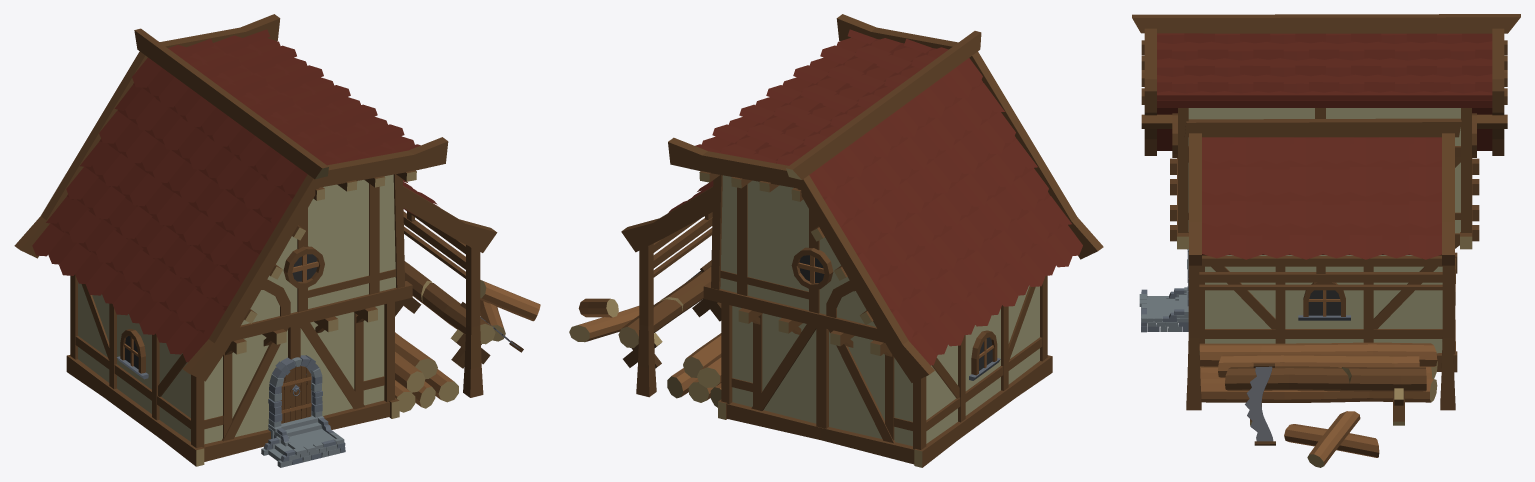
File: Sawmill.gltf
The picture shows the model from 3 angles, left to right: view 1: azimuth 30°, elevation 25°; view 2: azimuth 150°, elevation 25°; view 3: azimuth 270°, elevation 25°; orthographic projection. The views are drawn at different scales.
Visible parts, largest first — view 1: Sawmill_Cube.047; view 2: Sawmill_Cube.047; view 3: Sawmill_Cube.047.
Part boxes in pixels (x1,y1,x2,y2): Sawmill_Cube.047: [14, 14, 540, 467]; Sawmill_Cube.047: [569, 14, 1103, 467]; Sawmill_Cube.047: [1132, 14, 1520, 467].
Size of the model in its own units: 4.4 by 2.86 by 3.28.
